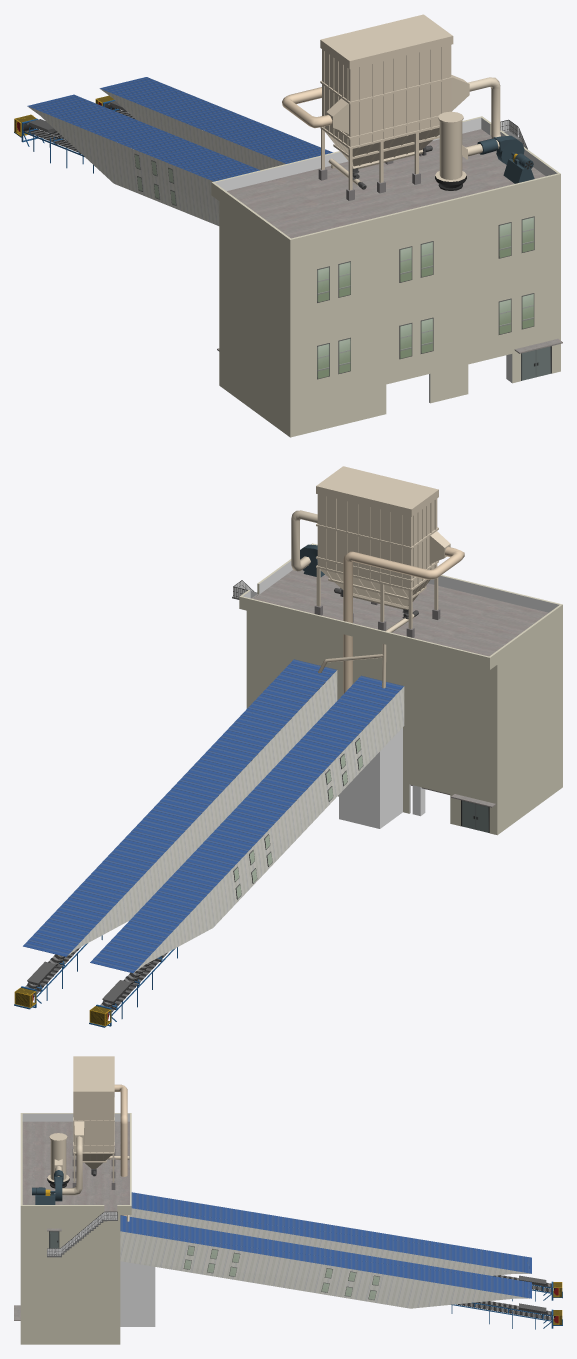
The model's file is 筛分间.glb.
3 views of the same model, one above another, from view 1: azimuth 30°, elevation 25°; view 2: azimuth 150°, elevation 25°; view 3: azimuth 270°, elevation 25° (orthographic). The views are drawn at different scales.
Parts seen in each view (by area): view 1: 筛分间外墙带透明通道, 筛分收尘器, 筛分间房顶, 筛分排气筒, 筛分风机, 筛分胶带机2带透明通道, 筛分收尘管道, 筛分收尘器风机管道; view 2: 筛分间外墙带透明通道, 筛分收尘器, 筛分间房顶, 筛分收尘管道, 筛分胶带机2带透明通道, 筛分胶带机1带透明通道, 筛分收尘器风机管道; view 3: 筛分间外墙带透明通道, 筛分间房顶, 筛分收尘器, 筛分胶带机1带透明通道, 筛分排气筒, 筛分收尘管道, 筛分胶带机2带透明通道, 筛分风机, 筛分收尘器风机管道.
Boxes of the visible parts, x1,y1,x2,y2 form: 筛分间外墙带透明通道: [27, 77, 562, 437]; 筛分收尘器: [318, 14, 469, 200]; 筛分间房顶: [227, 129, 545, 238]; 筛分排气筒: [435, 111, 467, 190]; 筛分风机: [493, 135, 534, 183]; 筛分胶带机2带透明通道: [14, 114, 93, 173]; 筛分收尘管道: [282, 87, 332, 128]; 筛分收尘器风机管道: [468, 77, 500, 138]; 筛分间外墙带透明通道: [23, 543, 562, 973]; 筛分收尘器: [314, 466, 450, 637]; 筛分间房顶: [254, 570, 548, 656]; 筛分收尘管道: [343, 547, 464, 695]; 筛分胶带机2带透明通道: [89, 689, 401, 1027]; 筛分胶带机1带透明通道: [14, 671, 335, 1009]; 筛分收尘器风机管道: [291, 510, 317, 571]; 筛分间外墙带透明通道: [14, 1113, 531, 1344]; 筛分间房顶: [22, 1121, 129, 1211]; 筛分收尘器: [72, 1056, 115, 1189]; 筛分胶带机1带透明通道: [451, 1301, 562, 1329]; 筛分排气筒: [47, 1133, 69, 1188]; 筛分收尘管道: [114, 1084, 127, 1216]; 筛分胶带机2带透明通道: [493, 1275, 562, 1301]; 筛分风机: [32, 1176, 63, 1204]; 筛分收尘器风机管道: [62, 1136, 82, 1195].
Bounding box in the file's own units: 26.92 × 29.85 × 63.16.
Materials: 66 (16 with a texture image).
